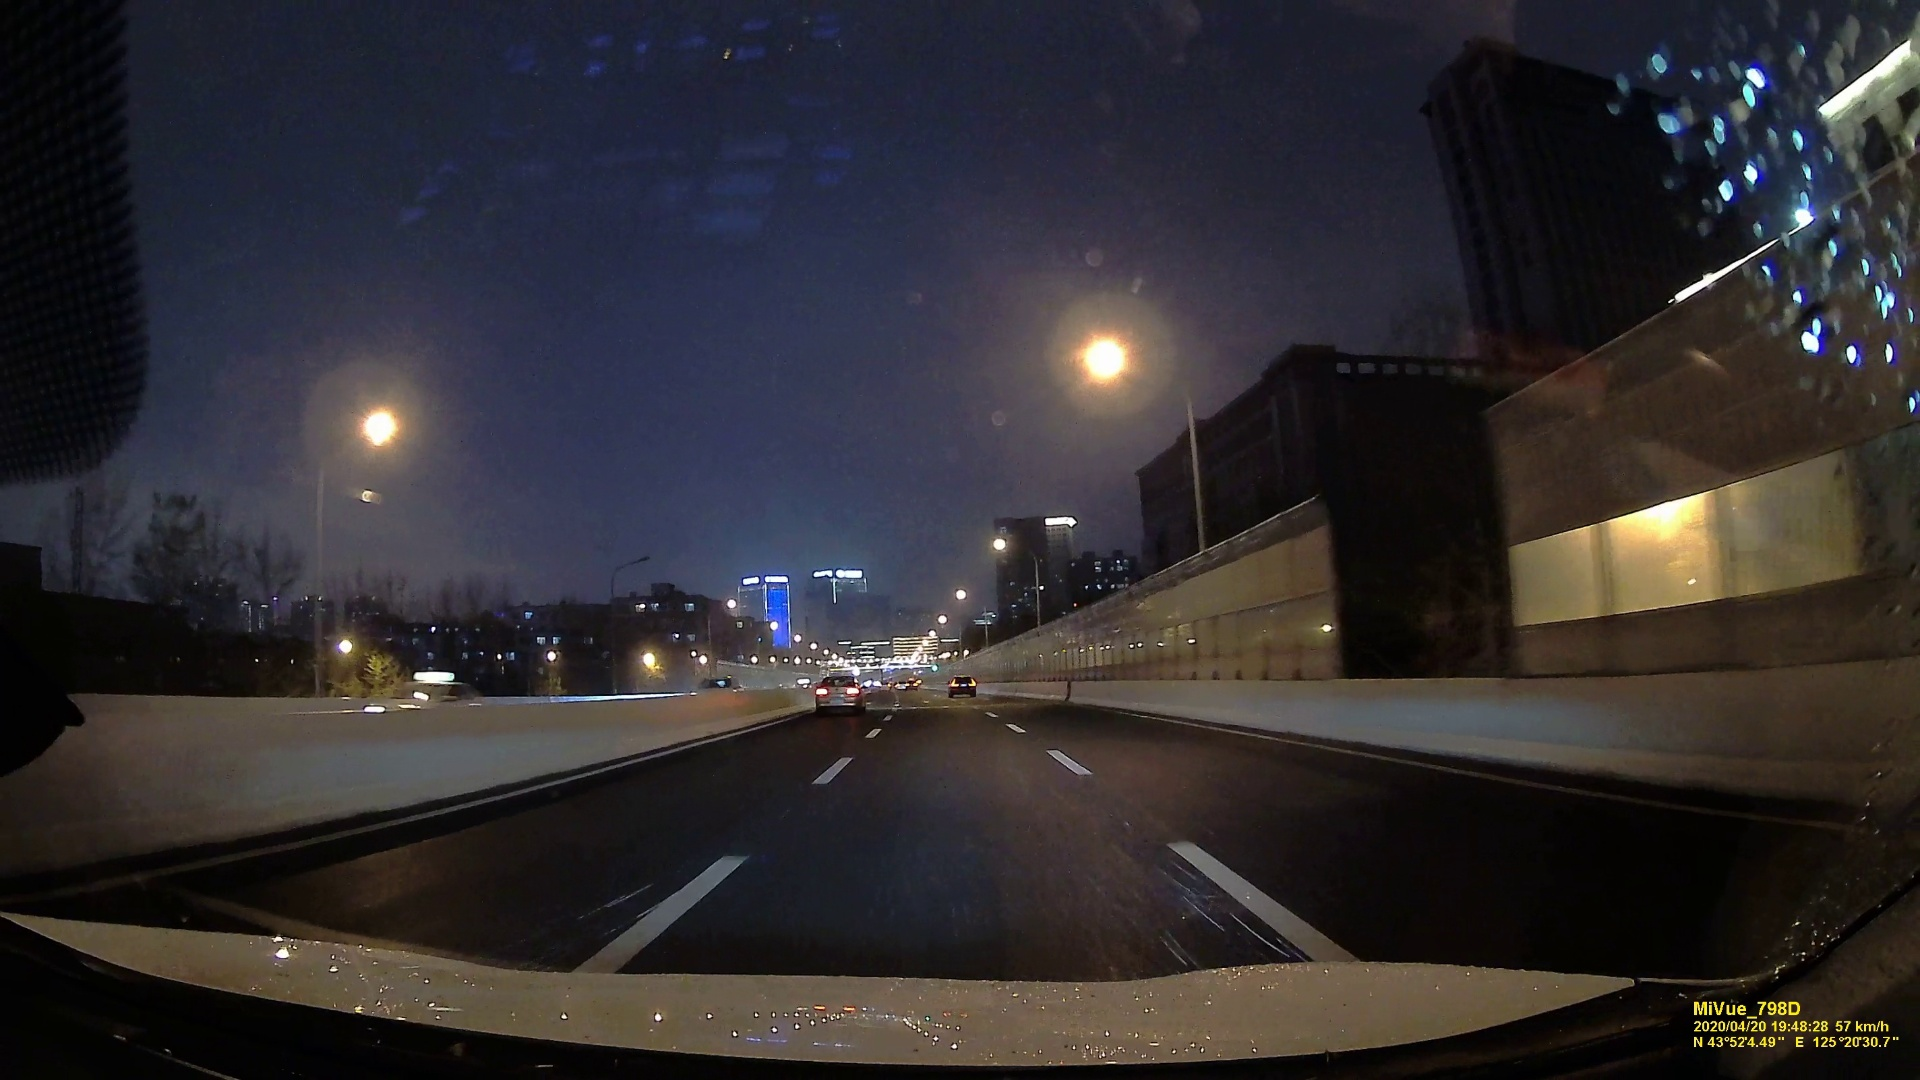vehicle: (814, 676, 862, 712), (947, 675, 976, 698)
